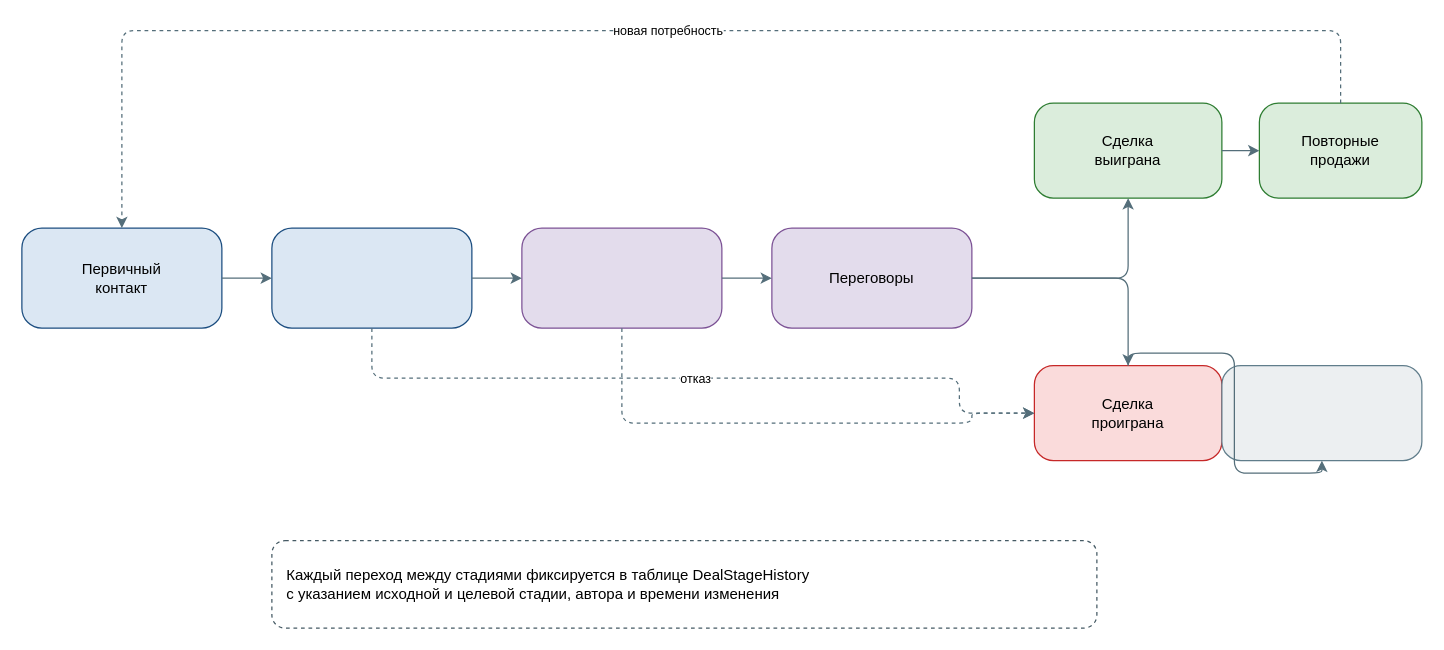
The diagram is 1444 pixels wide and 650 high, and some of its shapes have lost their labels. Here are the shapes that lost their labels. From the top down, the centre of each, then its label:
At point (371, 277): "Квалификация".
At point (621, 277): "Коммерческое предложение".
At point (1321, 412): "Архивирование клиента и сделки".
